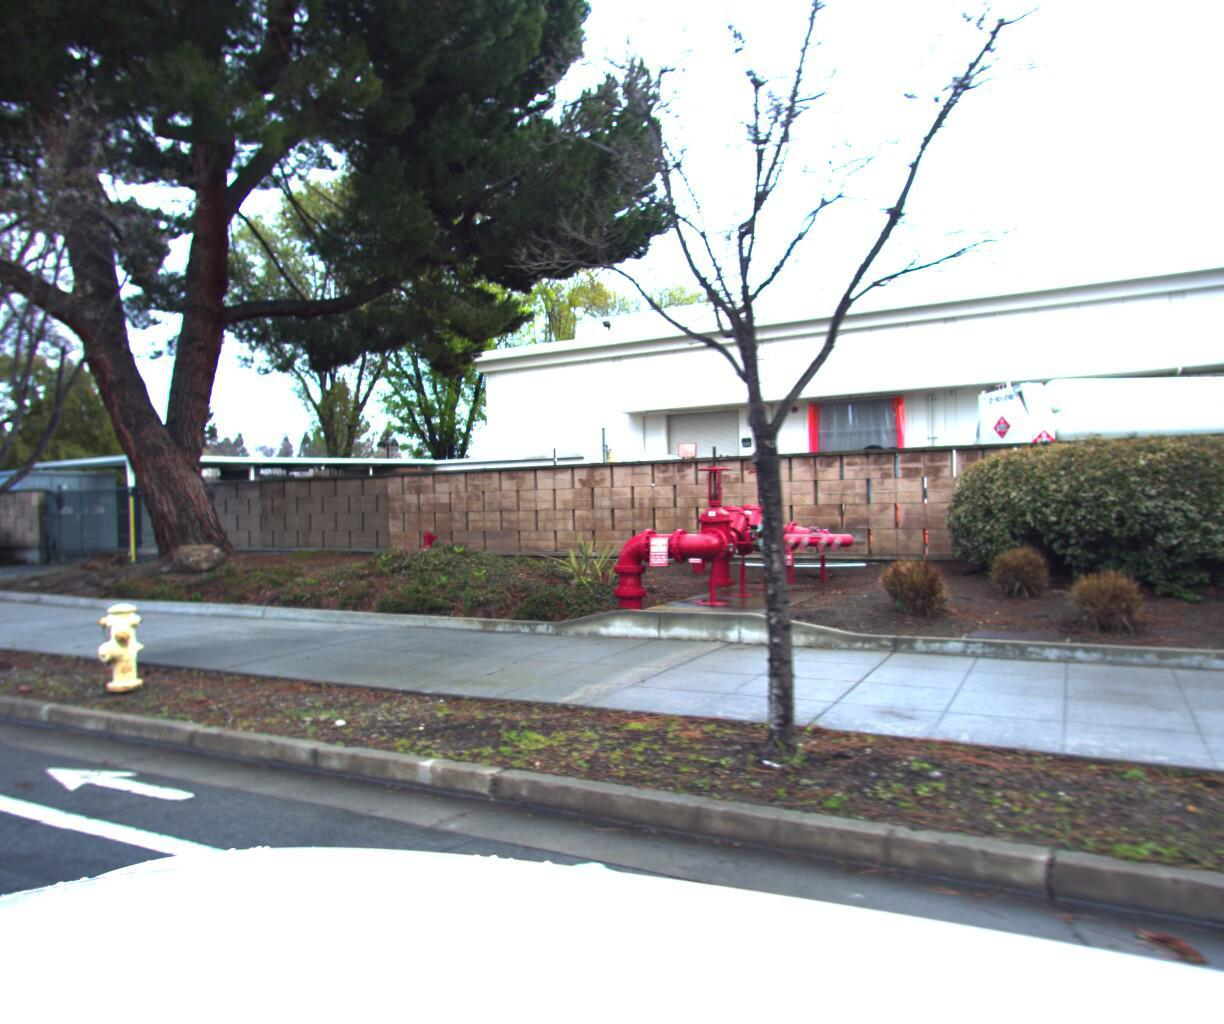truck: (559, 444, 699, 547)
